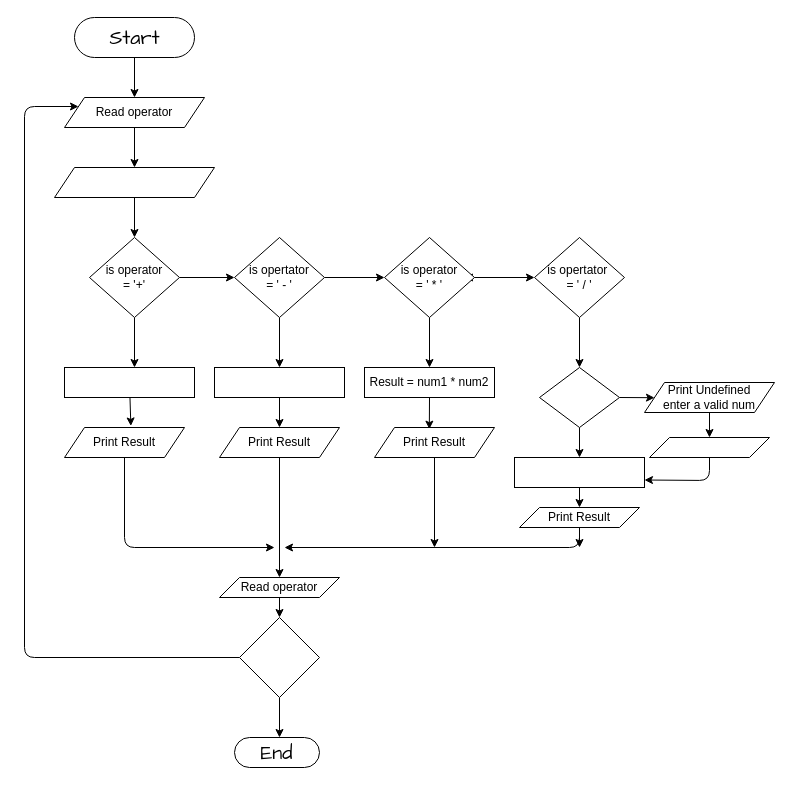
Image size: 792x785. Some labels were removed from this diagram. The shapes that lost their labels are listed below. From the top down, each one's centre as x and y in pixels, then its label:
At pixel 134 182: "- Read num1 & num2".
At pixel 129 382: "Result = num1 + num2".
At pixel 279 382: "Result = num1 - num2".
At pixel 579 397: "is num2<--0".
At pixel 709 447: "Read num2".
At pixel 579 472: "Result = num1 / num2".
At pixel 279 657: "is operator == 0".
